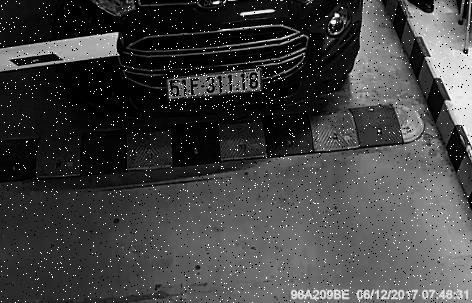License-plate: (163, 67, 287, 111)
